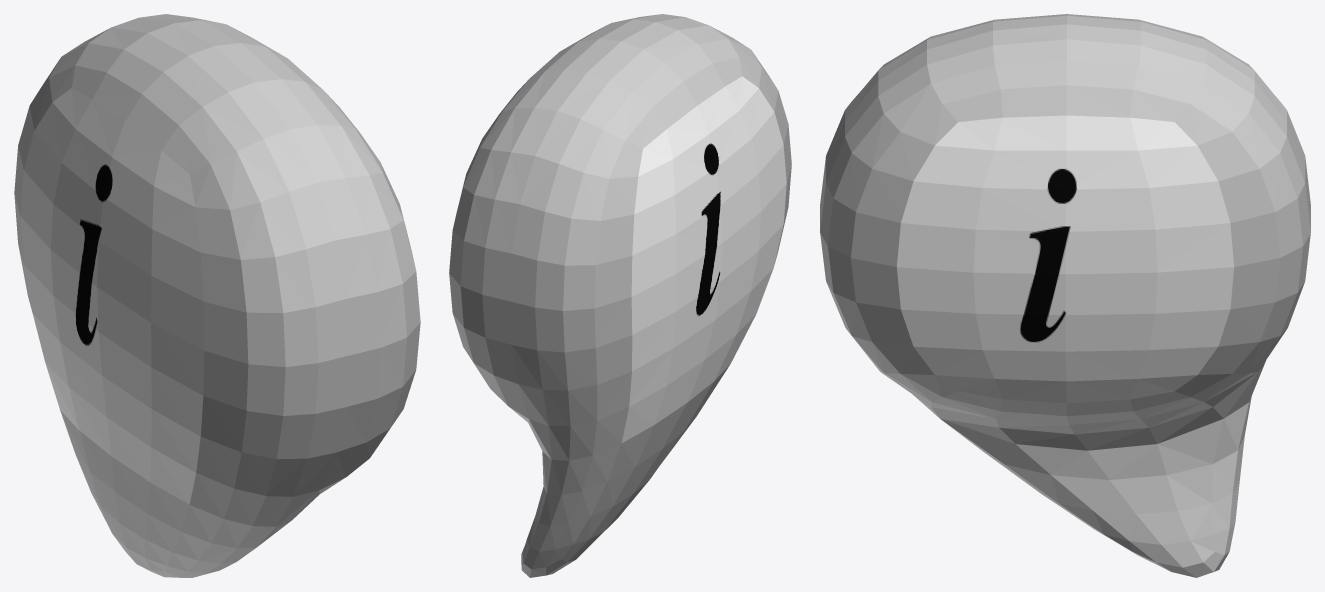
The model's file is infoBubble.obj.
3 renders of one model, left to right at view 1: azimuth 30°, elevation 25°; view 2: azimuth 150°, elevation 25°; view 3: azimuth 270°, elevation 25°, orthographic. The views are drawn at different scales.
Bounding box in the file's own units: 0.1467 × 0.3391 × 0.2799.
Materials: 2 (1 with a texture image).
